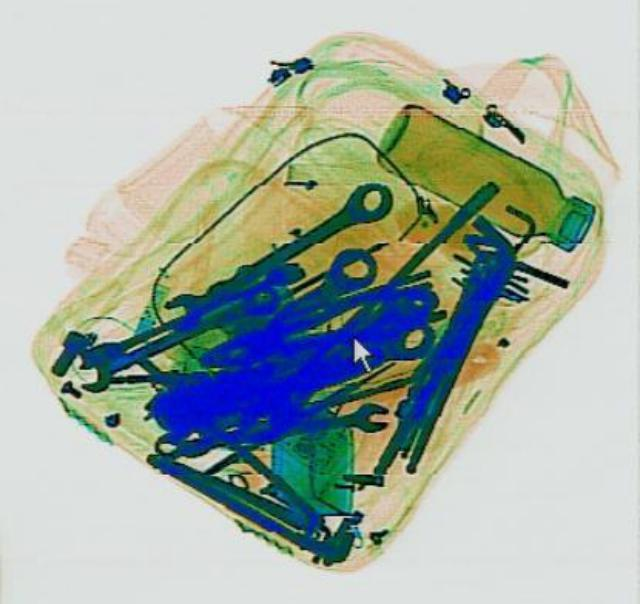Pliers: (188, 266, 444, 382)
Wrench: (154, 171, 398, 333), (66, 275, 282, 395), (150, 397, 392, 458)
